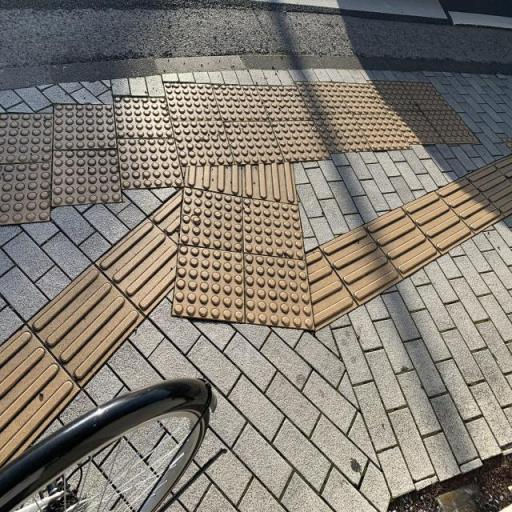dot: (171, 243, 243, 323), (244, 252, 314, 329), (178, 188, 243, 252), (52, 150, 124, 207), (241, 197, 305, 259), (117, 137, 185, 189), (0, 161, 52, 226), (51, 103, 117, 148), (171, 120, 236, 165), (223, 120, 285, 165), (0, 111, 53, 162), (270, 120, 333, 162), (113, 96, 174, 137), (311, 114, 372, 153), (163, 82, 222, 120), (211, 83, 270, 121), (352, 113, 412, 150), (421, 110, 481, 143), (257, 85, 314, 119), (388, 110, 444, 143), (295, 81, 352, 113), (333, 82, 390, 114), (367, 81, 420, 113), (401, 82, 453, 108)
line: (21, 262, 147, 385), (0, 326, 81, 469), (92, 218, 178, 314), (318, 222, 406, 305), (363, 206, 442, 277), (402, 191, 476, 255), (305, 247, 360, 330), (436, 177, 503, 234)
